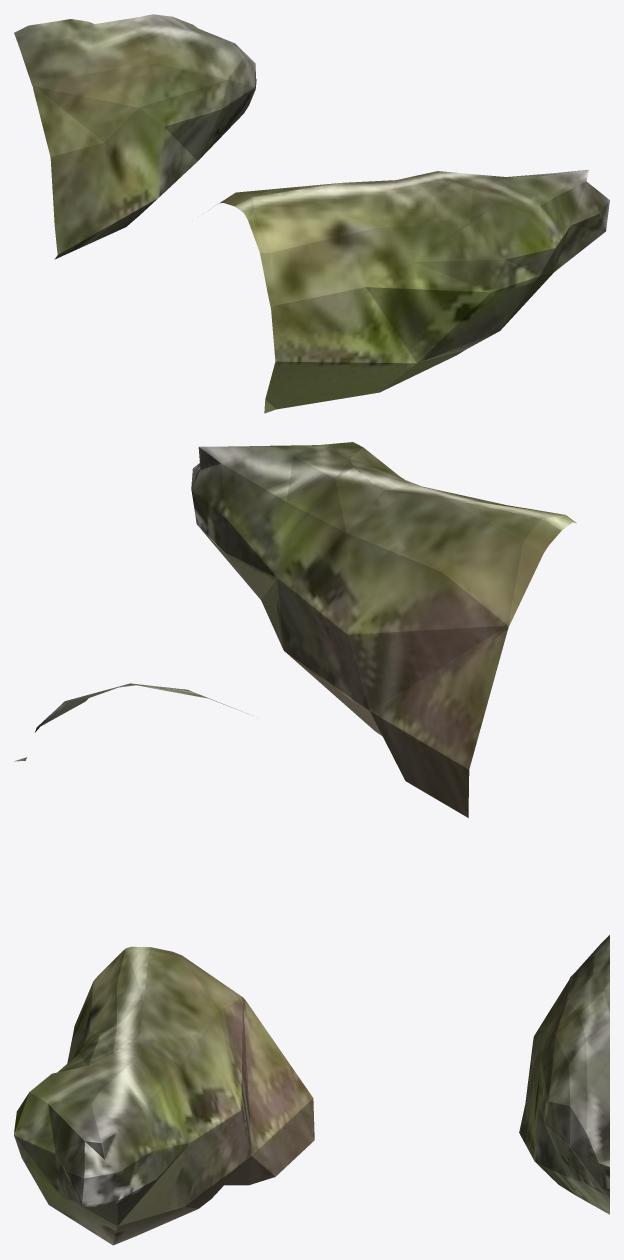
3 views of the same model, one above another, from view 1: azimuth 30°, elevation 25°; view 2: azimuth 150°, elevation 25°; view 3: azimuth 270°, elevation 25° (orthographic). The views are drawn at different scales.
Size of the model in its own units: 0.9872 by 0.5524 by 1.42.
1 material, 1 textured.
